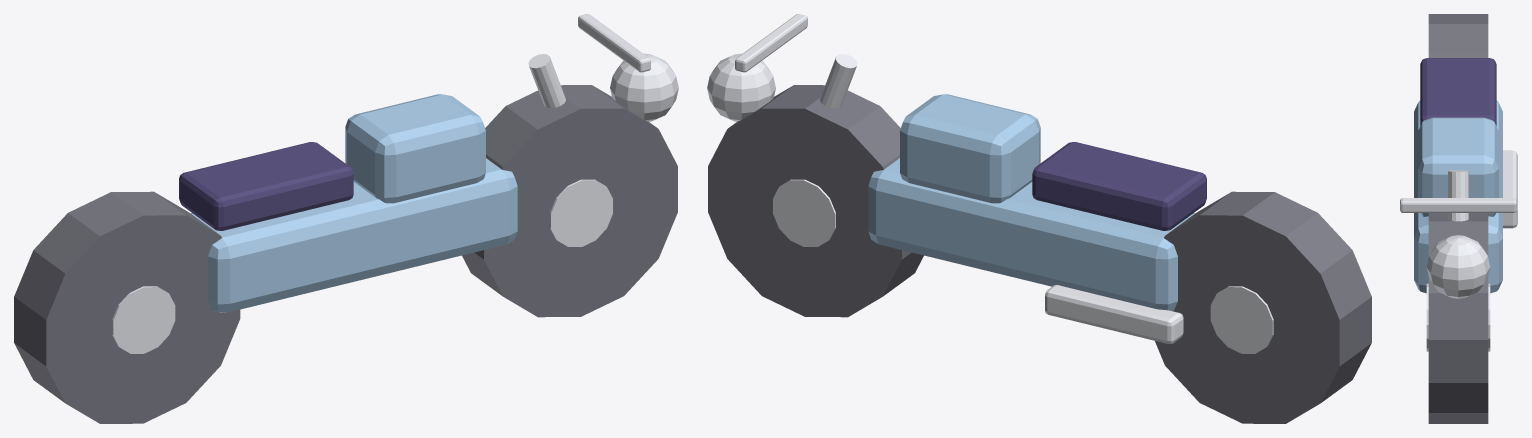
Rendered from motorcycle_story.glb.
3 renders of one model, left to right at view 1: azimuth 30°, elevation 25°; view 2: azimuth 150°, elevation 25°; view 3: azimuth 270°, elevation 25°, orthographic. The views are drawn at different scales.
Visible parts, largest first — view 1: motorcycle_story.001; view 2: motorcycle_story.001; view 3: motorcycle_story.001.
Part boxes in pixels (box(x1,y1,x2,y2)): motorcycle_story.001: box(14, 14, 678, 423); motorcycle_story.001: box(707, 14, 1371, 423); motorcycle_story.001: box(1400, 14, 1517, 423).
Bounding box in the file's own units: 3.24 × 1.23 × 0.555.
